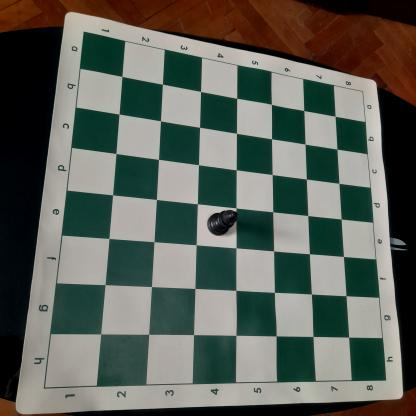black-bishop: (206, 208, 238, 238)
